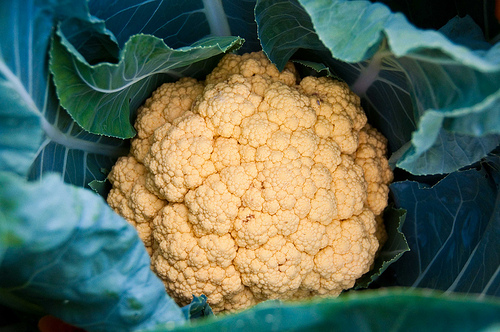cauliflower: (107, 50, 394, 313)
